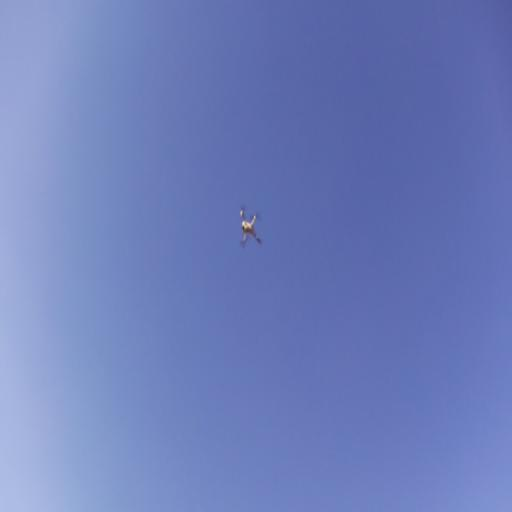drones: (237, 204, 264, 254)
